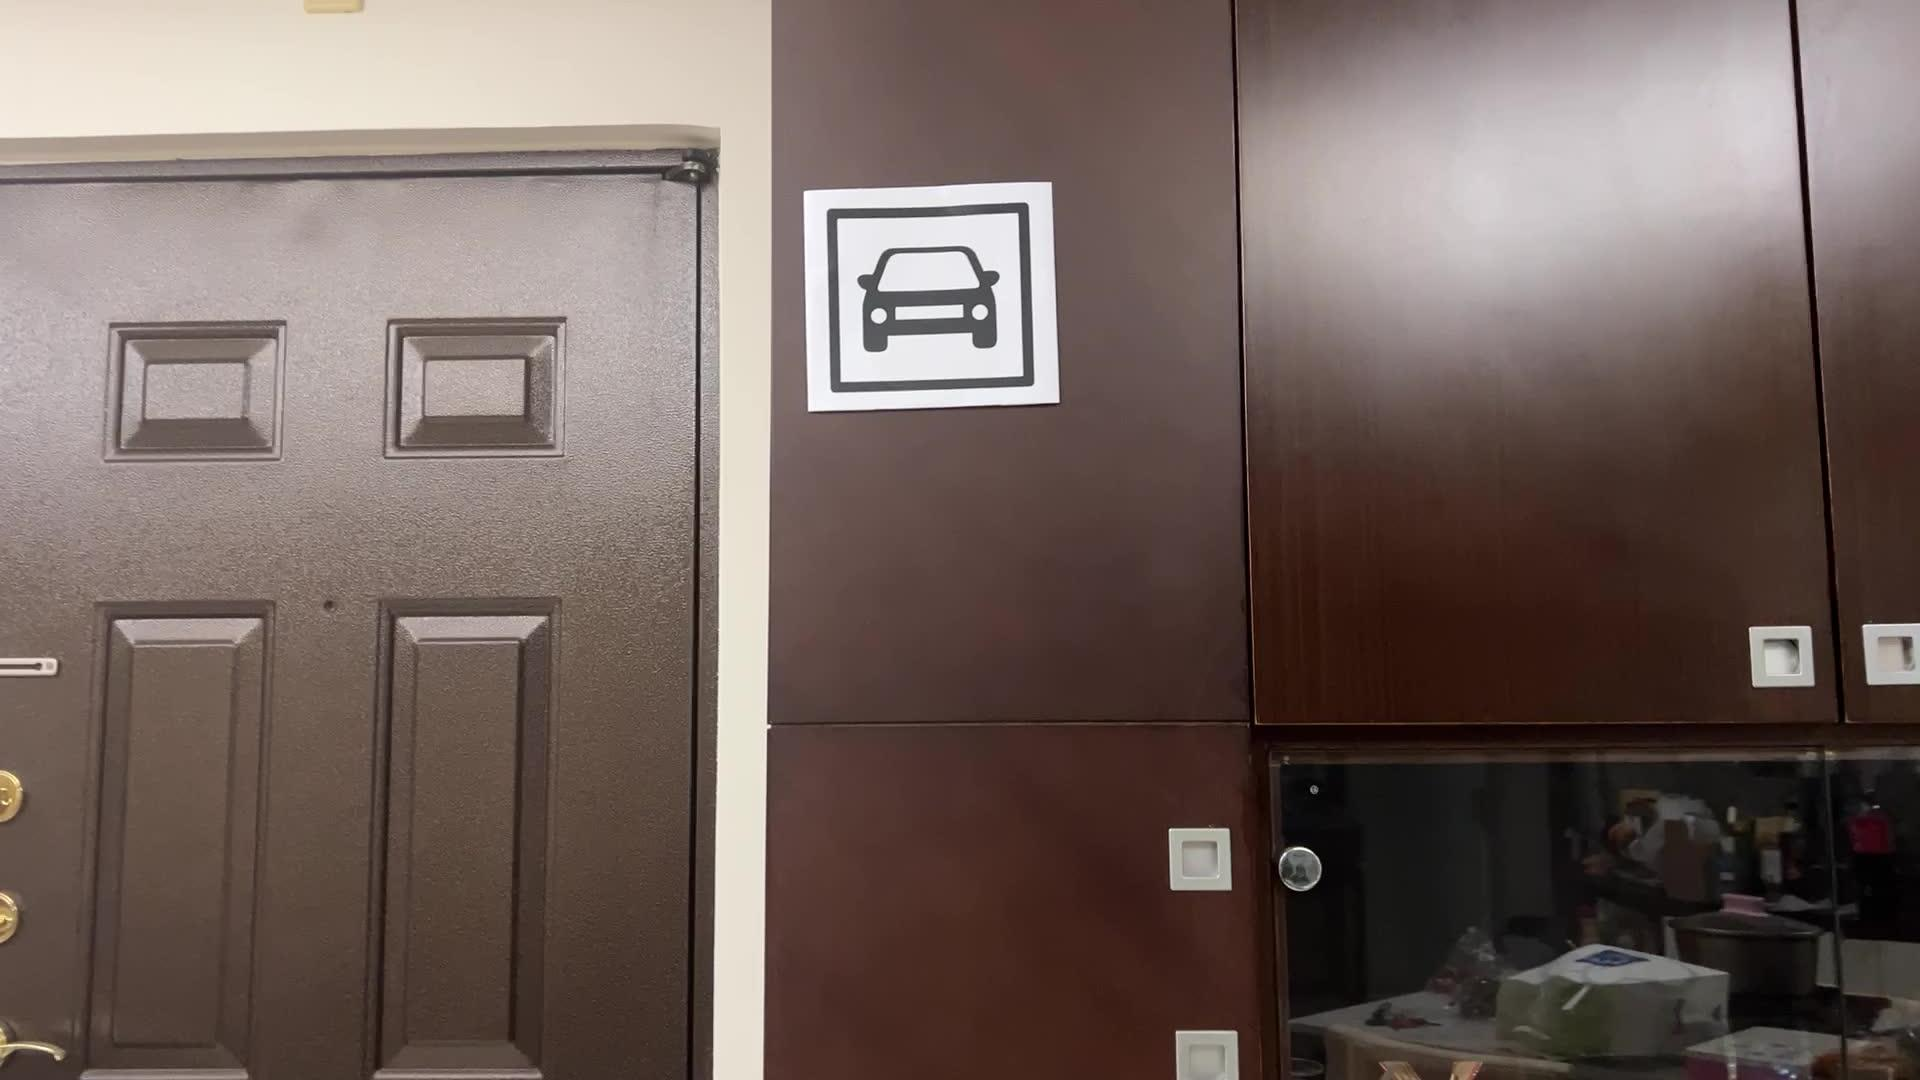car_img: (820, 197, 1041, 397)
